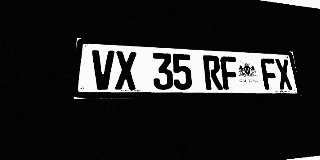3: (152, 53, 173, 90)
5: (172, 54, 193, 90)
F: (220, 56, 240, 90), (260, 58, 279, 90)
R: (203, 55, 223, 90)
V: (91, 50, 114, 90)
X: (115, 51, 137, 90), (274, 59, 293, 90)
